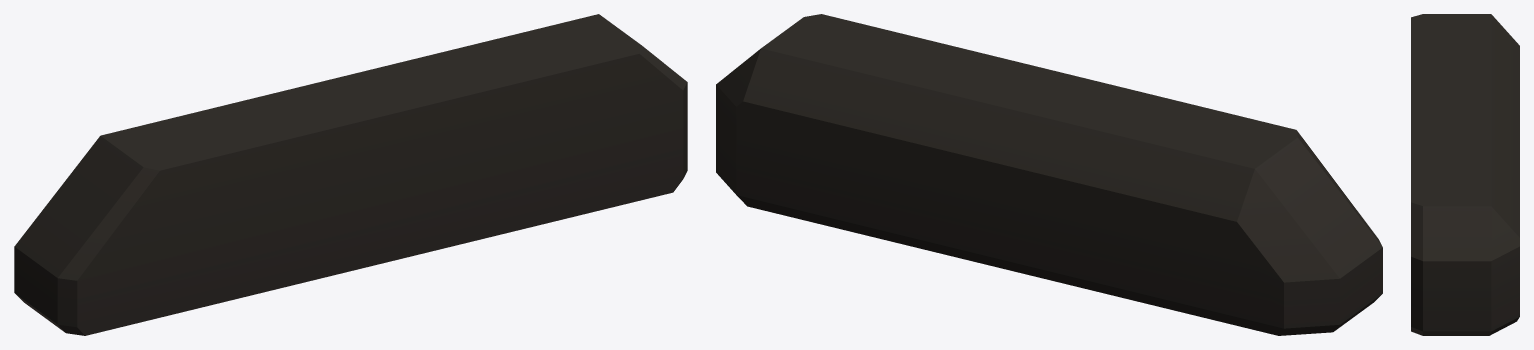
Rendered from AR1_HandleLeft.fbx.
3 renders of one model, left to right at view 1: azimuth 30°, elevation 25°; view 2: azimuth 150°, elevation 25°; view 3: azimuth 270°, elevation 25°, orthographic. The views are drawn at different scales.
Parts seen in each view (by area): view 1: AR1_HandleLeft; view 2: AR1_HandleLeft; view 3: AR1_HandleLeft.
Part boxes in pixels (x1=…): AR1_HandleLeft: x1=14, y1=14, x2=687, y2=335; AR1_HandleLeft: x1=716, y1=14, x2=1382, y2=335; AR1_HandleLeft: x1=1411, y1=14, x2=1519, y2=335.
Size of the model in its own units: 21.17 by 4.73 by 4.01.
